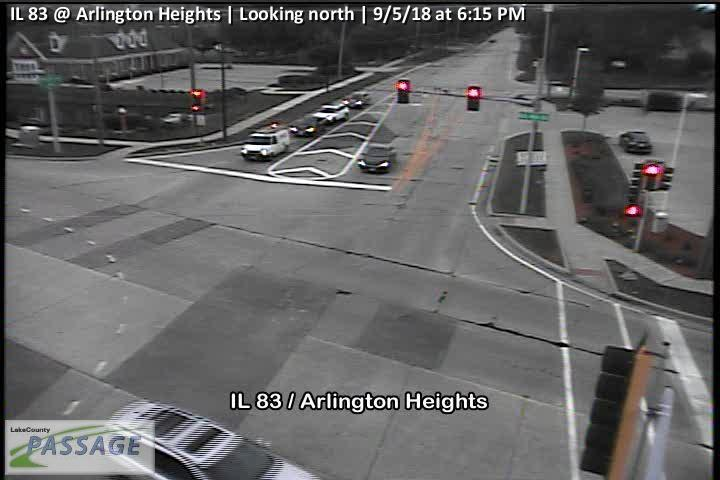SUV: (97, 395, 326, 480), (239, 128, 291, 161), (311, 103, 350, 124)
Sedan: (357, 146, 397, 175), (620, 131, 653, 155), (292, 117, 323, 137), (342, 92, 371, 107)
